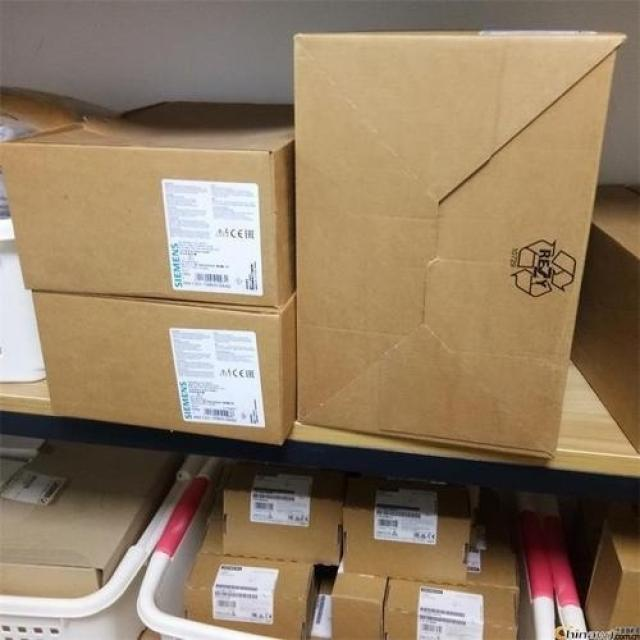box: (293, 26, 621, 461), (0, 98, 296, 310), (32, 293, 295, 445), (1, 435, 186, 597), (571, 186, 639, 456), (342, 462, 475, 586), (221, 454, 348, 566), (185, 554, 313, 639), (384, 577, 517, 638), (581, 528, 639, 632), (331, 567, 387, 637)
